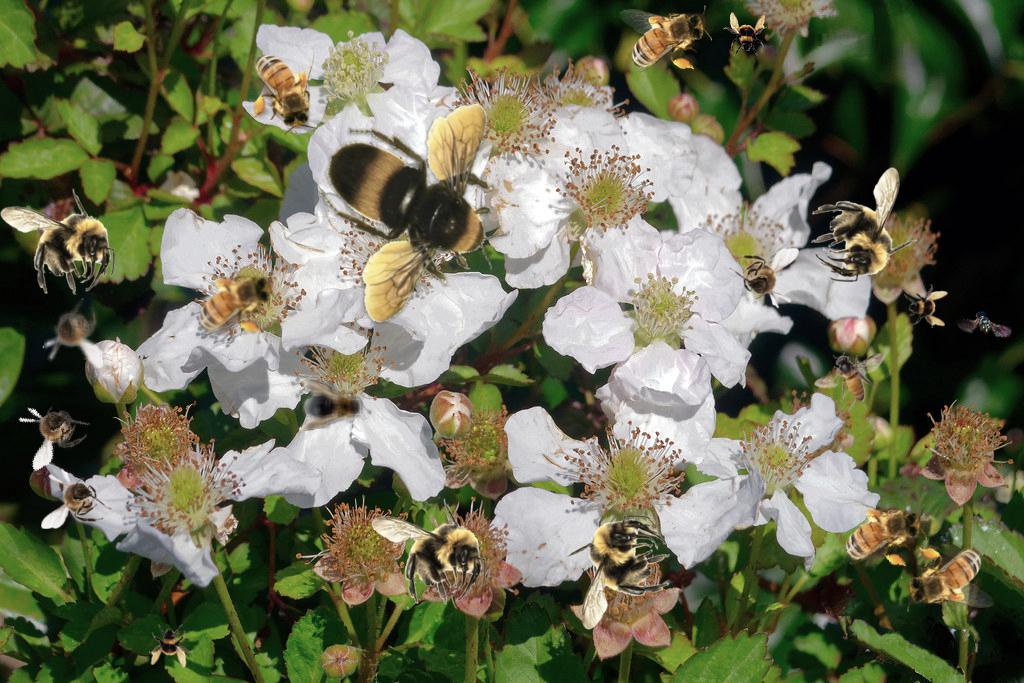Bee: (319, 104, 510, 324), (371, 498, 486, 605), (0, 188, 115, 295), (811, 167, 918, 282), (563, 515, 670, 630), (831, 494, 931, 573), (8, 386, 99, 472), (901, 544, 994, 612), (250, 42, 318, 135), (186, 268, 279, 336), (619, 5, 712, 73), (42, 298, 103, 368), (729, 248, 799, 309), (41, 468, 111, 529), (814, 352, 885, 402), (299, 379, 367, 431), (723, 12, 767, 56), (149, 624, 193, 668), (904, 284, 948, 328)
